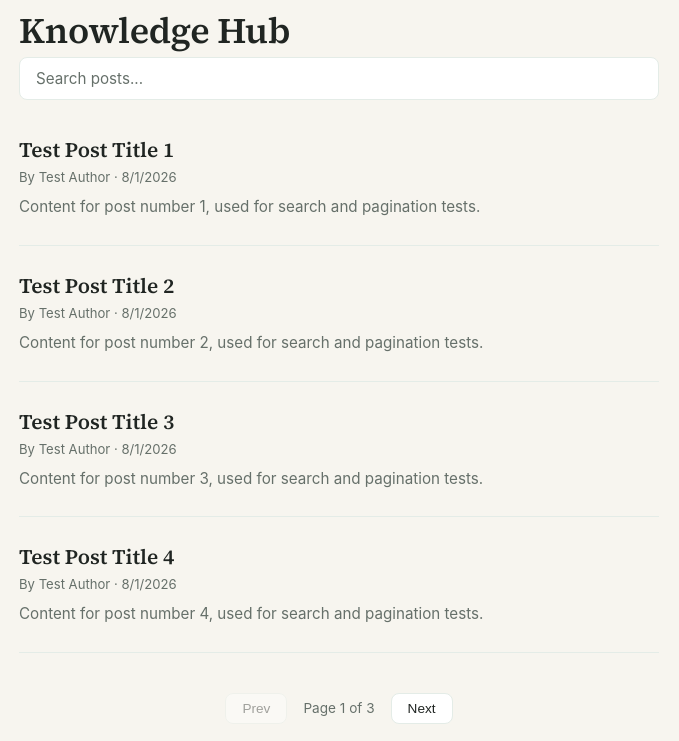
HomePage — interactions › typing in search filters the visible list
Expected: the link "Test Post Title 1" is shown, [19,135,174,164]
Type "Title 5" into the field with placeholder "Search posts..." at (339, 79), box [19,57,659,100]
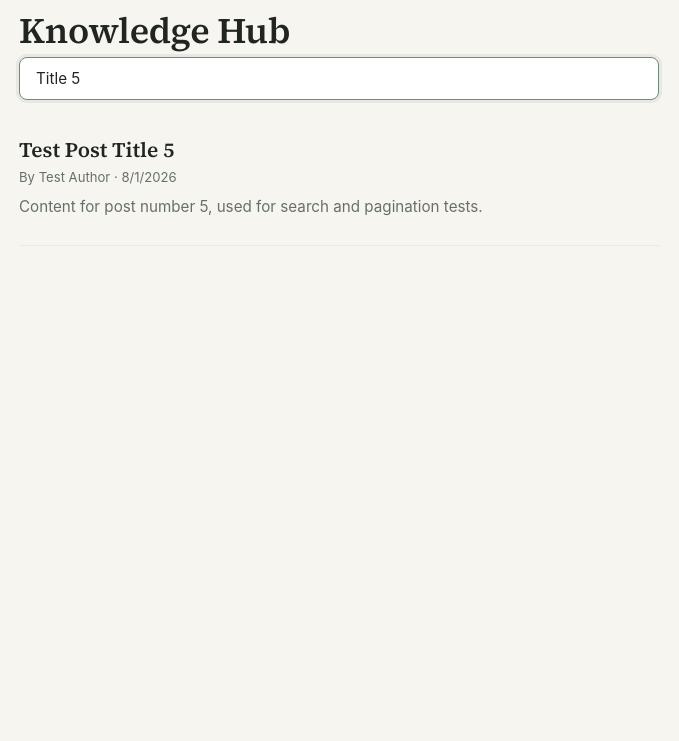
Expected: the link "Test Post Title 5" is shown, [19,135,174,164]
